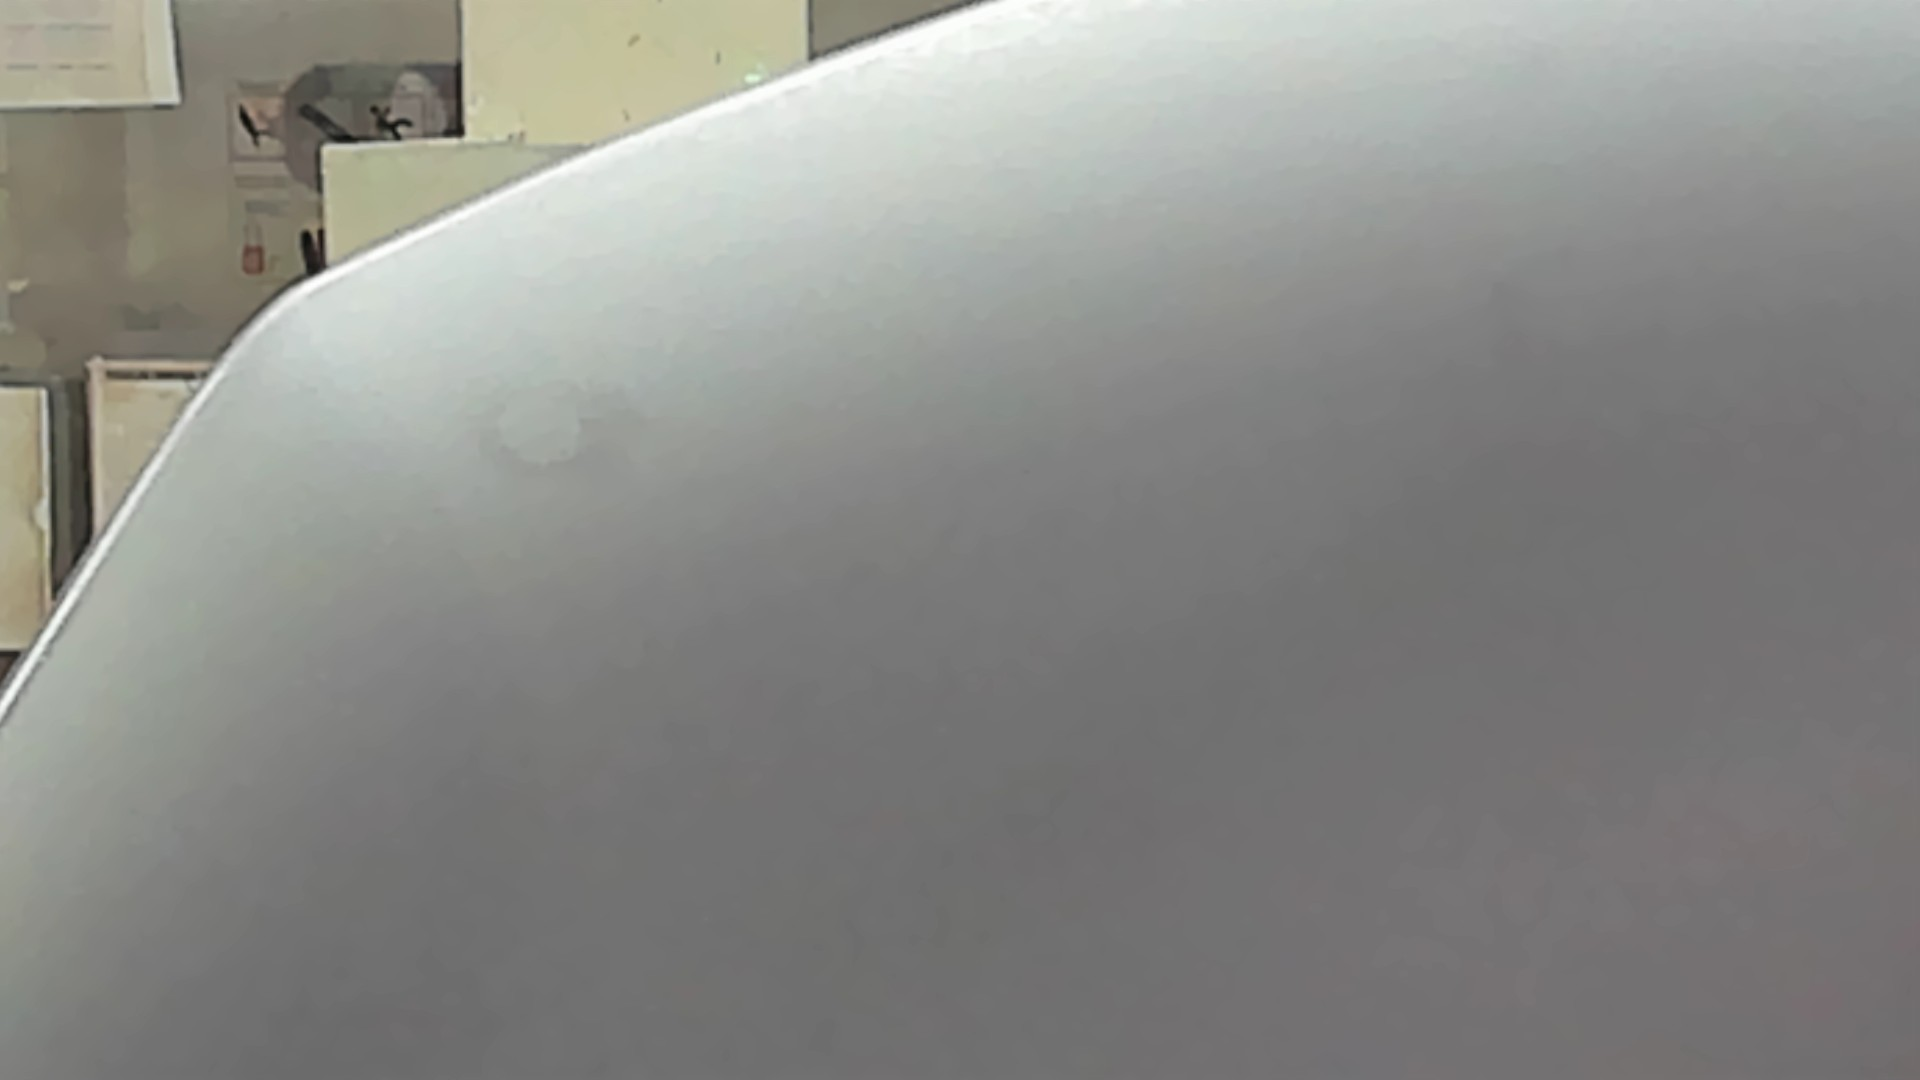capo: (588, 175, 1920, 1080)
